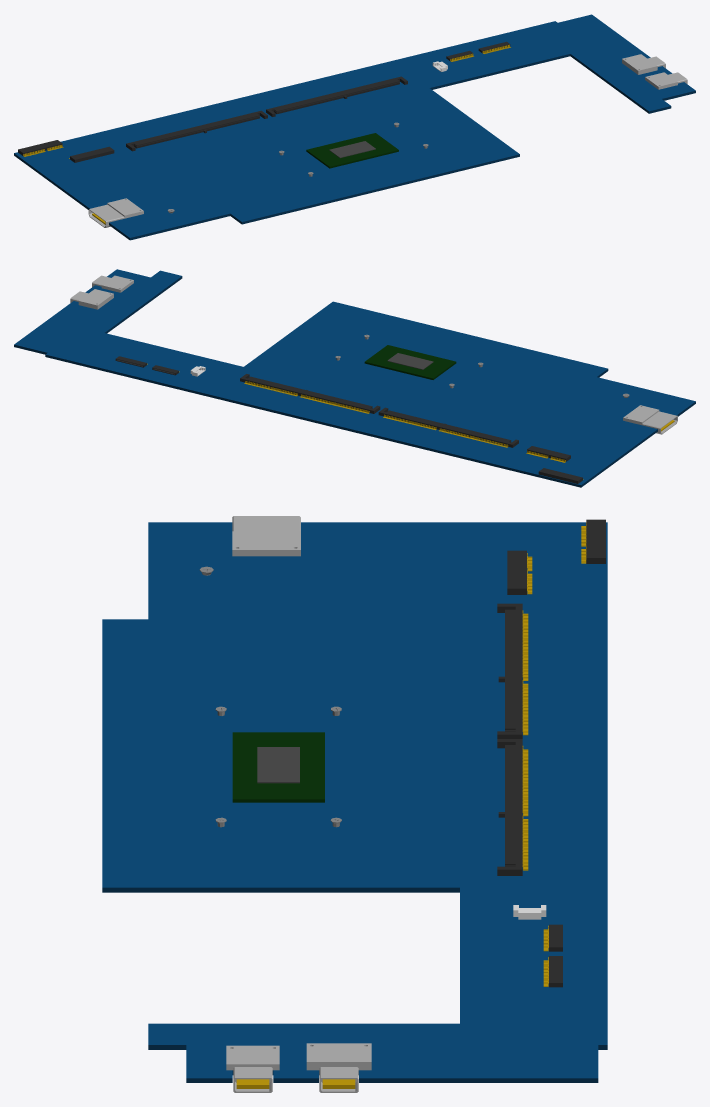
File: Laptop_Mobo.fbx
The picture shows the model from 3 angles, top to bottom: view 1: azimuth 30°, elevation 25°; view 2: azimuth 150°, elevation 25°; view 3: azimuth 270°, elevation 25°; orthographic projection. The views are drawn at different scales.
Parts seen in each view (by area): view 1: Laptop_Mobo_Base.001; view 2: Laptop_Mobo_Base.001; view 3: Laptop_Mobo_Base.001.
Part boxes in pixels (x1,y1,x2,y2): Laptop_Mobo_Base.001: (14,14,695,240); Laptop_Mobo_Base.001: (14,269,695,487); Laptop_Mobo_Base.001: (102,516,607,1092).
Bounding box in the file's own units: 144 × 2.37 × 54.64.
